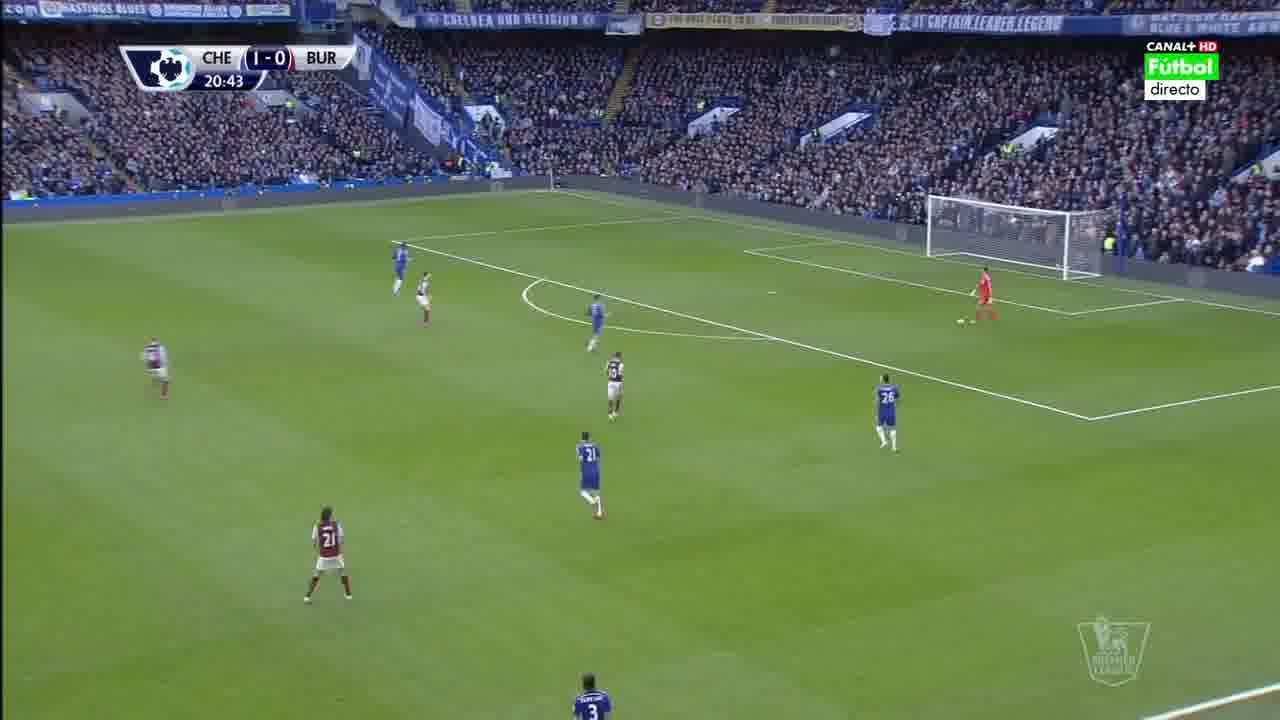football: (954, 315, 966, 327)
